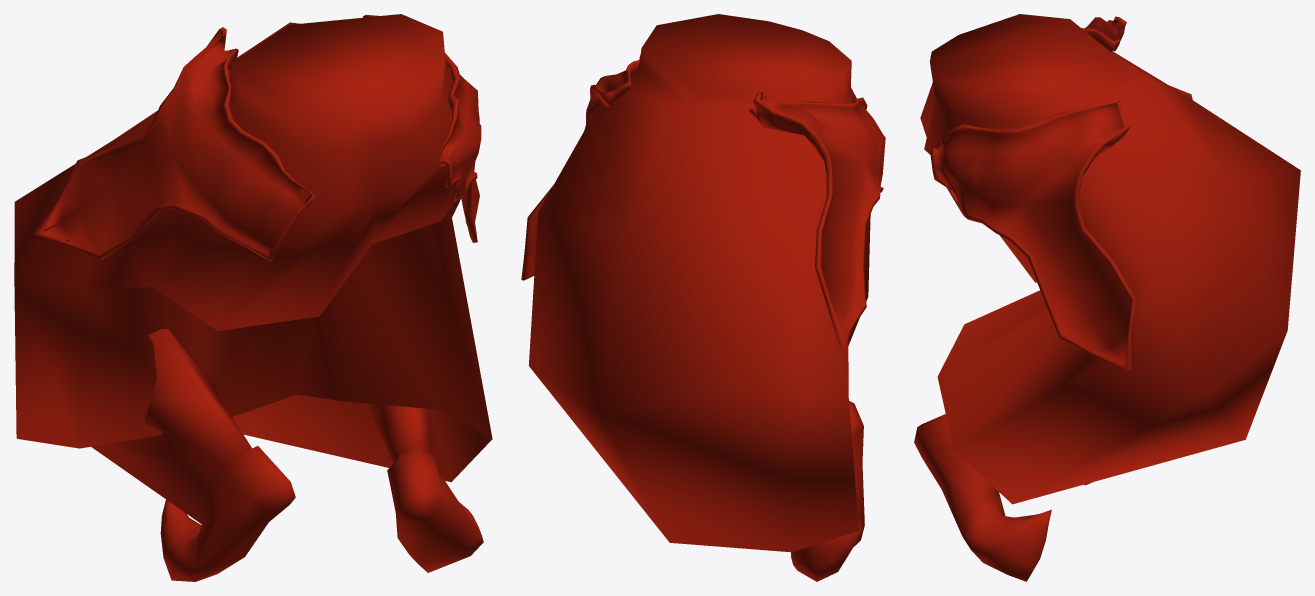
File: bot_000052.obj
3 renders of one model, left to right at view 1: azimuth 30°, elevation 25°; view 2: azimuth 150°, elevation 25°; view 3: azimuth 270°, elevation 25°, orthographic. The views are drawn at different scales.
Visible parts, largest first — view 1: LowPoly_Warlock.004_Plane.004; view 2: LowPoly_Warlock.004_Plane.004; view 3: LowPoly_Warlock.004_Plane.004.
Boxes of the visible parts, x1,y1,x2,y2 form: LowPoly_Warlock.004_Plane.004: [14, 14, 492, 581]; LowPoly_Warlock.004_Plane.004: [521, 14, 885, 581]; LowPoly_Warlock.004_Plane.004: [914, 14, 1300, 581].
Size of the model in its own units: 0.727 by 0.9052 by 0.6475.
